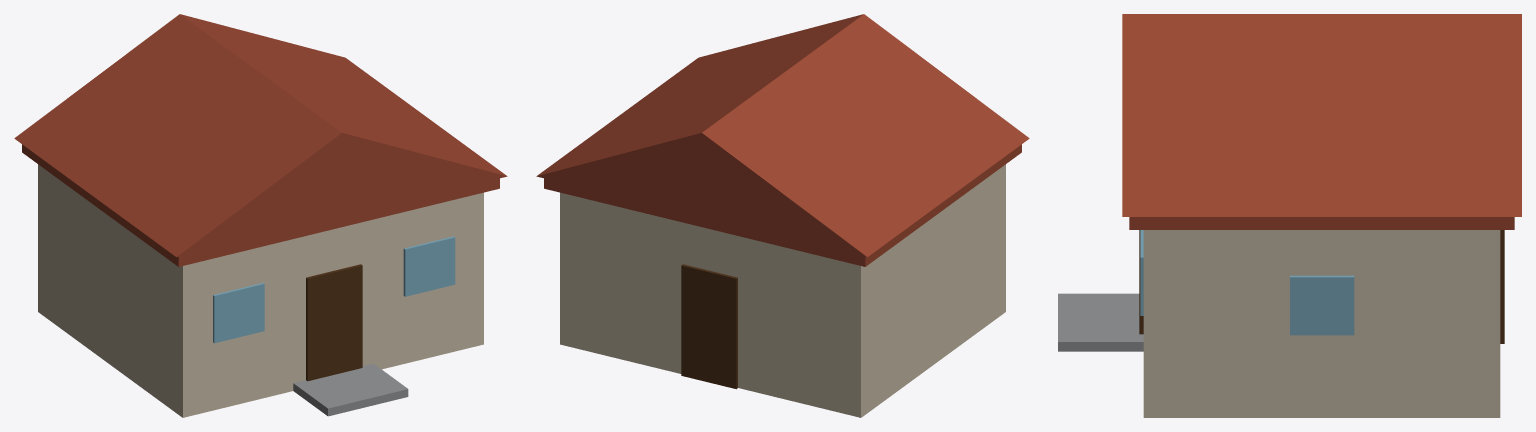
The model's file is house_small.glb.
3 renders of one model, left to right at view 1: azimuth 30°, elevation 25°; view 2: azimuth 150°, elevation 25°; view 3: azimuth 270°, elevation 25°, orthographic. The views are drawn at different scales.
Parts seen in each view (by area): view 1: model; view 2: model; view 3: model.
Boxes of the visible parts, left/top/right/bottom form: model: left=14, top=14, right=507, bottom=417; model: left=536, top=14, right=1029, bottom=417; model: left=1058, top=14, right=1521, bottom=417.
Size of the model in its own units: 6.6 by 4.85 by 6.5.
